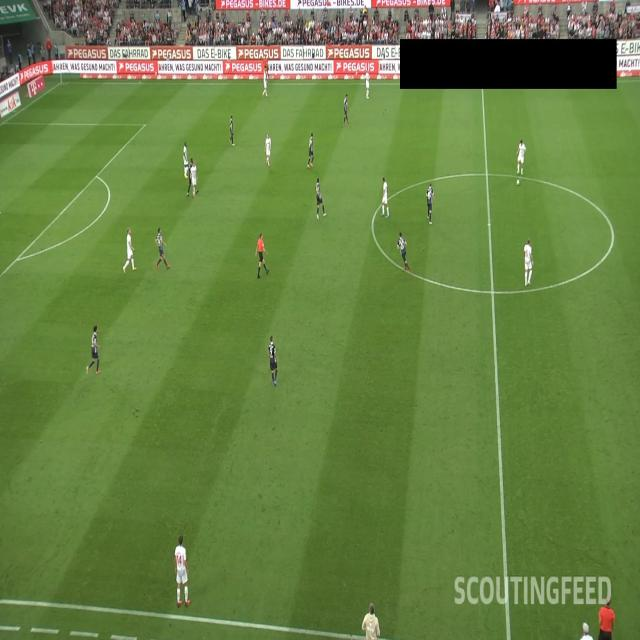ball: (516, 178, 520, 186)
